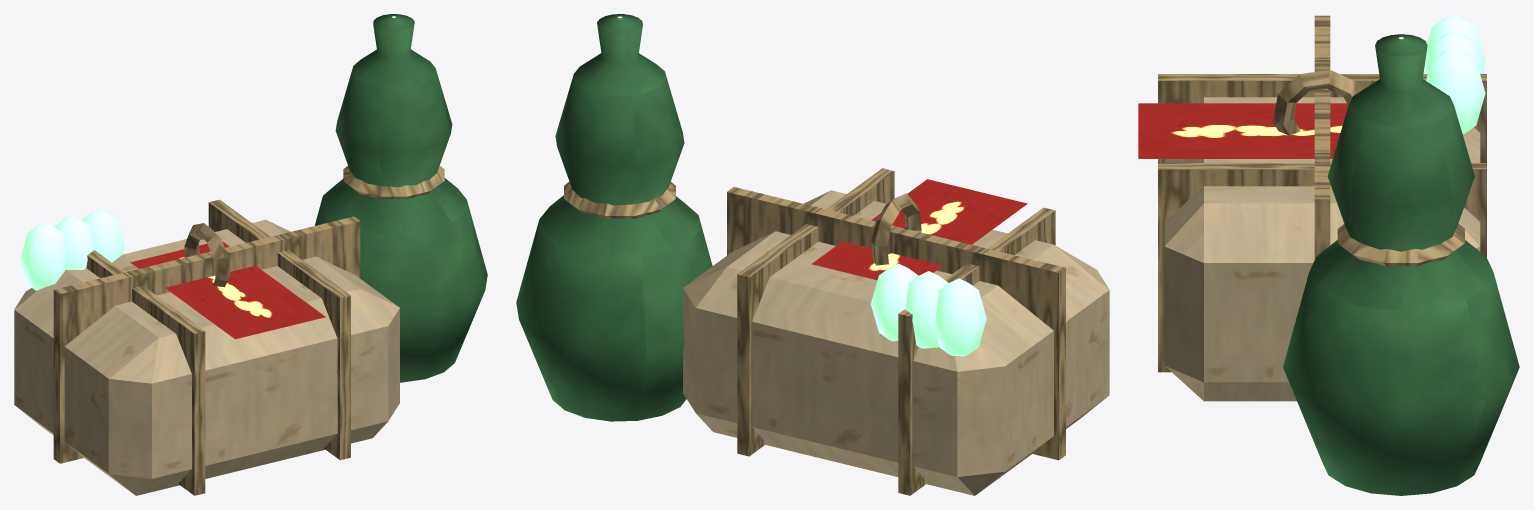
File: medicine.glb
The picture shows the model from 3 angles, left to right: view 1: azimuth 30°, elevation 25°; view 2: azimuth 150°, elevation 25°; view 3: azimuth 270°, elevation 25°; orthographic projection. The views are drawn at different scales.
Parts seen in each view (by area): view 1: Packet, PillGourd, Twine, MedLabel, HerbSprigs; view 2: Packet, PillGourd, Twine, HerbSprigs, MedLabel; view 3: PillGourd, Packet, Twine, MedLabel, HerbSprigs.
Boxes of the visible parts, bbox=[...] form: Packet: bbox=[14, 219, 399, 495]; PillGourd: bbox=[314, 14, 487, 382]; Twine: bbox=[53, 165, 444, 495]; MedLabel: bbox=[130, 242, 325, 339]; HerbSprigs: bbox=[20, 209, 124, 290]; Packet: bbox=[683, 190, 1109, 495]; PillGourd: bbox=[516, 14, 712, 421]; Twine: bbox=[564, 168, 1065, 495]; HerbSprigs: bbox=[871, 263, 986, 356]; MedLabel: bbox=[811, 179, 1027, 280]; PillGourd: bbox=[1283, 34, 1519, 495]; Packet: bbox=[1164, 97, 1480, 401]; Twine: bbox=[1158, 15, 1486, 372]; MedLabel: bbox=[1138, 103, 1348, 158]; HerbSprigs: bbox=[1423, 14, 1485, 133].
Bounding box in the file's own units: 0.2475 × 0.178 × 0.145.
5 materials, 4 textured.
